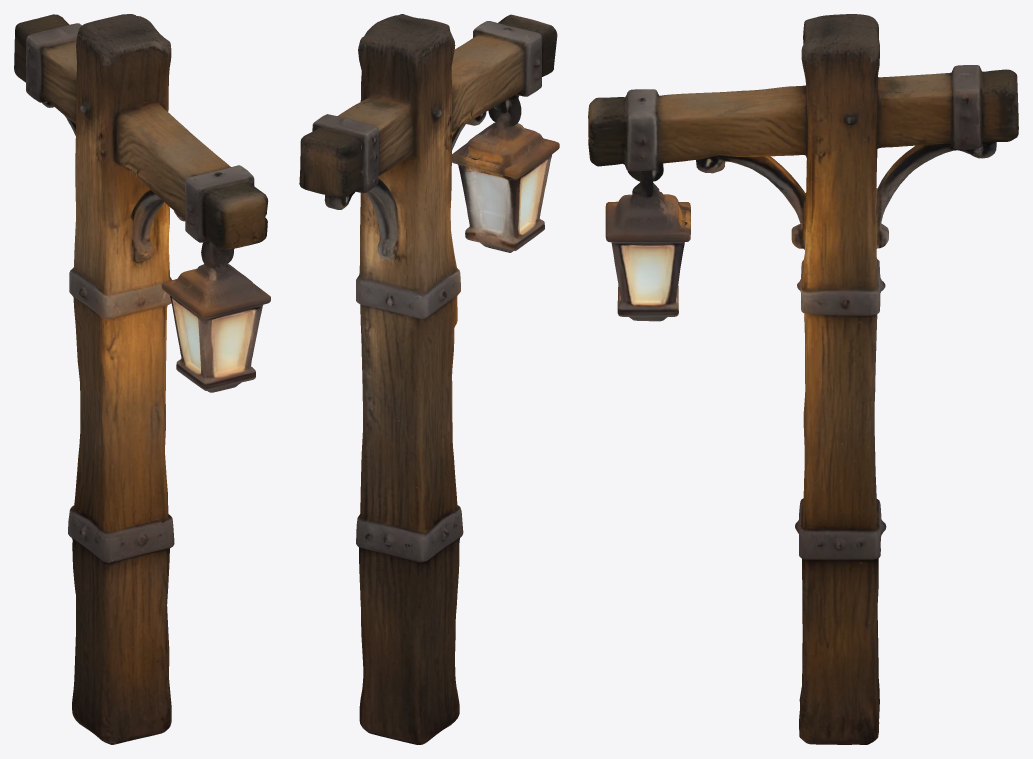
The model's file is fantasy-x__x-lantern__echad-ce8f0224.glb.
3 views of the same model, side by side, from view 1: azimuth 30°, elevation 25°; view 2: azimuth 150°, elevation 25°; view 3: azimuth 270°, elevation 25° (orthographic).
Parts seen in each view (by area): view 1: Object_5; view 2: Object_5; view 3: Object_5.
Part boxes in pixels (<box>): Object_5: <box>14,14,270,744</box>; Object_5: <box>299,14,559,744</box>; Object_5: <box>588,14,1018,744</box>.
Bounding box in the file's own units: 0.1216 × 0.9998 × 0.5523.
1 material, 1 textured.
